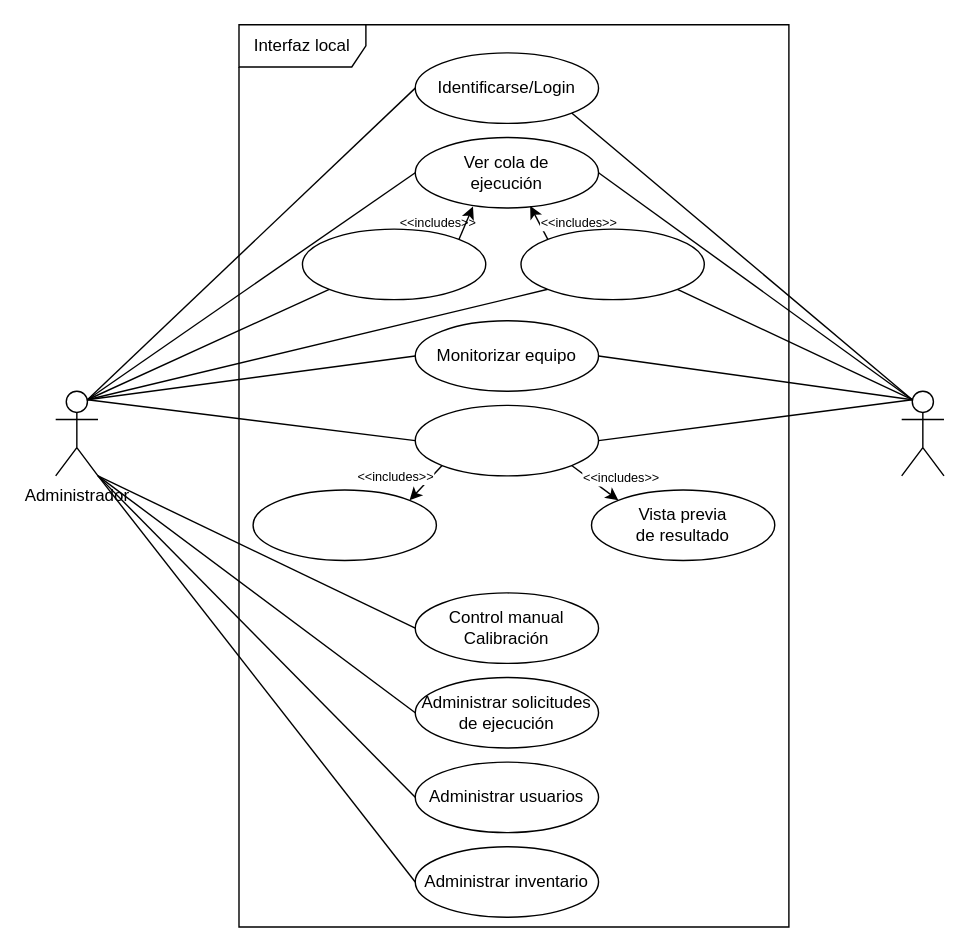
Image size: 976x952. Some labels were removed from this diagram. The centre of each missing label's shape, as x and y in pixels:
"Administrar archivos almacenados" goes at point (506, 440).
"Cancelar tareas en cola" goes at point (612, 264).
"Cargar nuevo archivo" goes at point (344, 524).
"Ordenar tareas" goes at point (393, 264).
"Usuario" goes at point (922, 433).
